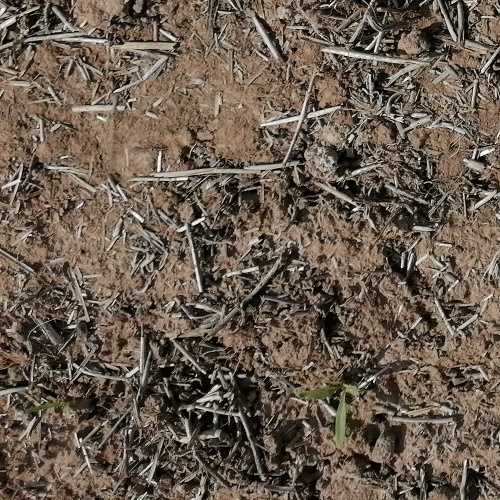beet: (306, 375, 358, 453)
